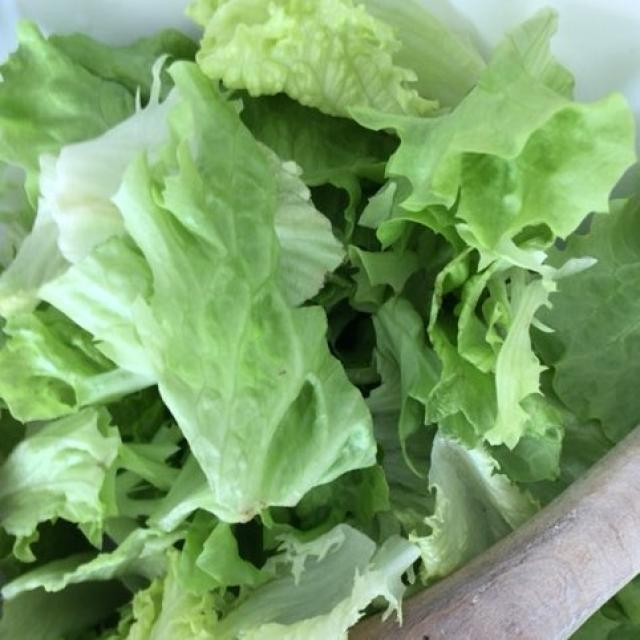salad: (31, 46, 622, 569)
